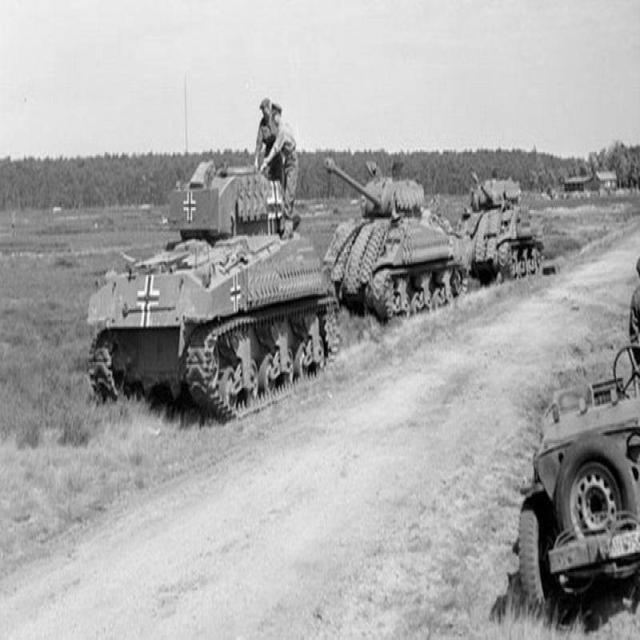MIL_MBT: (82, 164, 322, 400), (321, 141, 452, 300), (460, 164, 563, 275)
